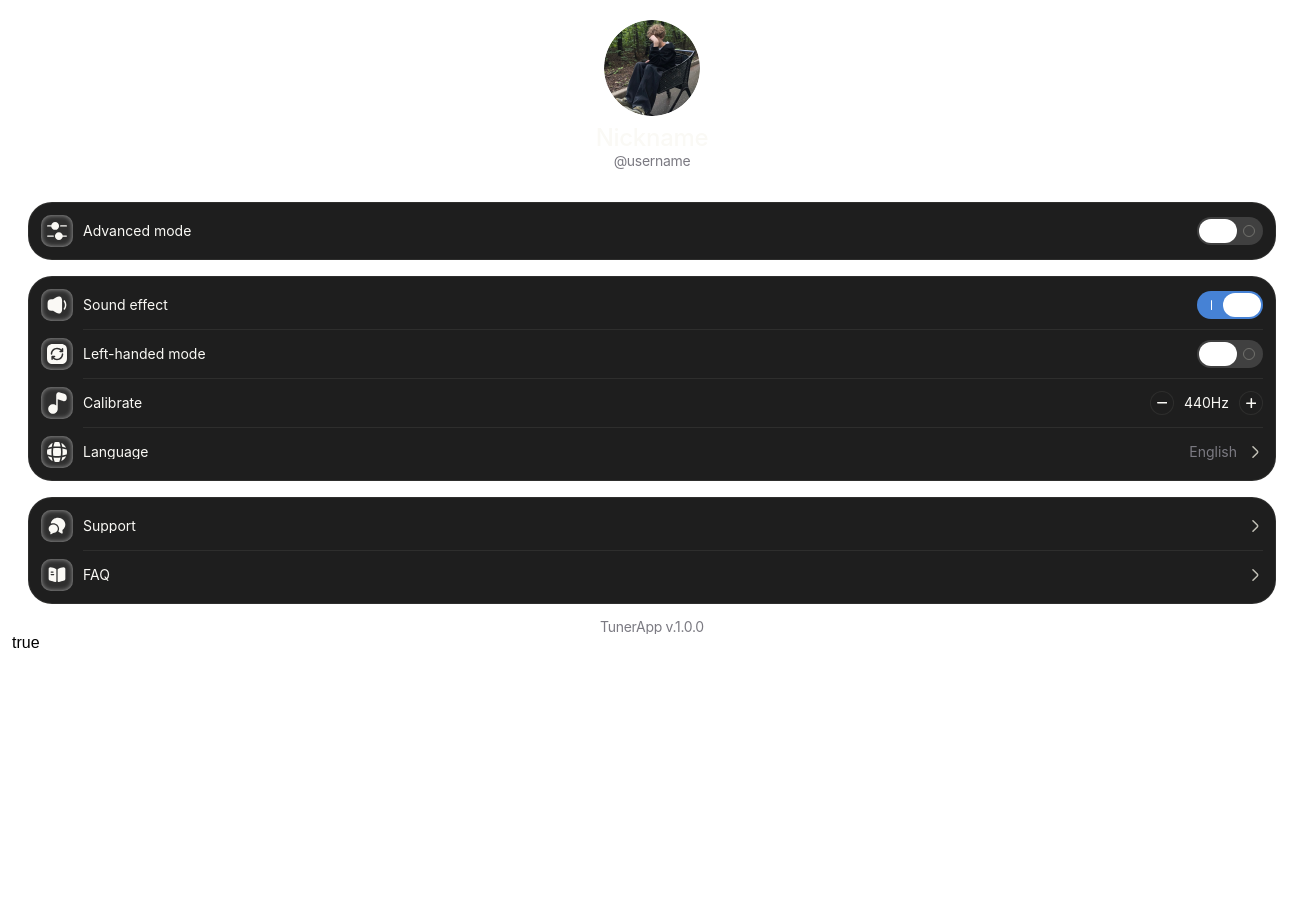
Test case: SettingsScreen › toggles preferences.soundEffectsEnabled via the Sound effect switch
Check: the text with test id "sound-effects" reads "true", box left=12, top=634, right=40, bottom=651
Click the switch named "Sound effect" at (1230, 305), box left=1197, top=291, right=1263, bottom=319
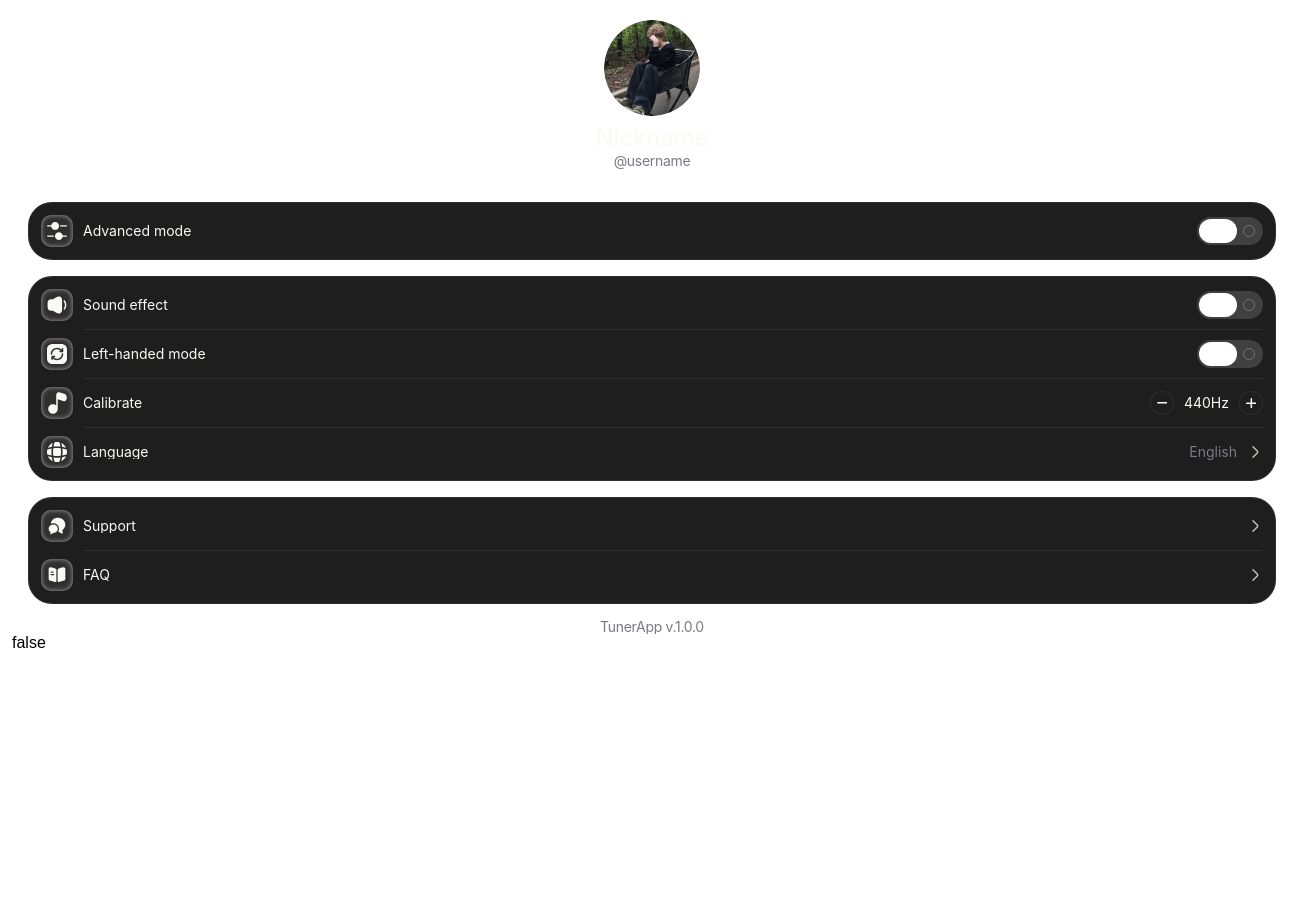
Check: the text with test id "sound-effects" reads "false", box left=12, top=634, right=46, bottom=651
